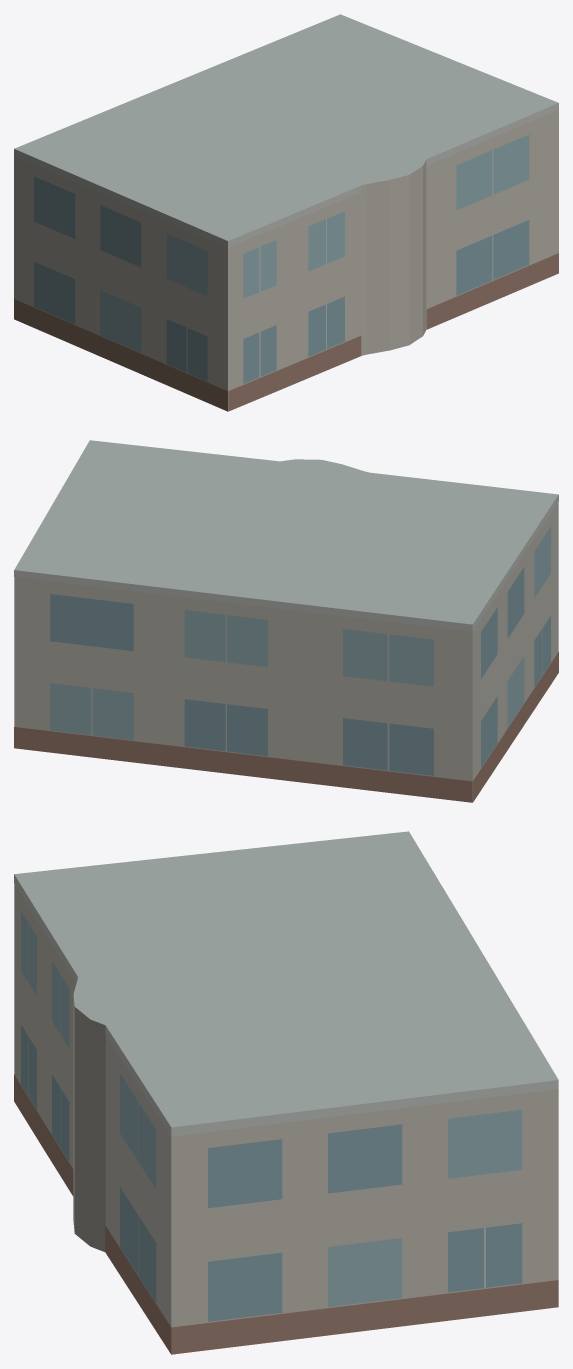
Rendered from survey-upis-32994035.glb.
The picture shows the model from 3 angles, top to bottom: view 1: azimuth 30°, elevation 25°; view 2: azimuth 150°, elevation 25°; view 3: azimuth 270°, elevation 25°; orthographic projection. The views are drawn at different scales.
Visible parts, largest first — view 1: survey-upis-32994035.tmp; view 2: survey-upis-32994035.tmp; view 3: survey-upis-32994035.tmp.
Boxes of the visible parts, x1,y1,x2,y2 form: survey-upis-32994035.tmp: (14, 14, 558, 411); survey-upis-32994035.tmp: (14, 440, 558, 802); survey-upis-32994035.tmp: (14, 831, 558, 1354).
Size of the model in its own units: 17.07 by 6.1 by 13.27.
